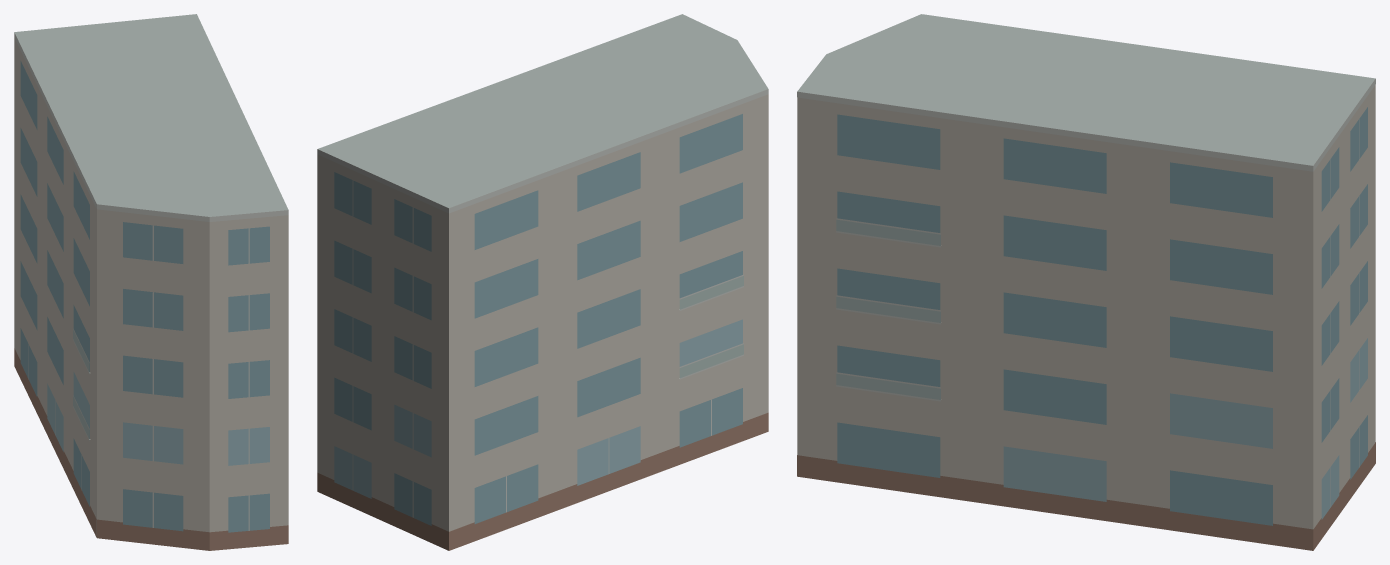
The model's file is survey-upis-32937504.glb.
The picture shows the model from 3 angles, left to right: view 1: azimuth 30°, elevation 25°; view 2: azimuth 150°, elevation 25°; view 3: azimuth 270°, elevation 25°; orthographic projection. The views are drawn at different scales.
Visible parts, largest first — view 1: survey-upis-32937504.tmp; view 2: survey-upis-32937504.tmp; view 3: survey-upis-32937504.tmp.
Boxes of the visible parts, bbox=[...] form: survey-upis-32937504.tmp: bbox=[14, 14, 288, 550]; survey-upis-32937504.tmp: bbox=[317, 14, 768, 550]; survey-upis-32937504.tmp: bbox=[797, 14, 1375, 550].
Bounding box in the file's own units: 13.63 × 16.1 × 21.94.
